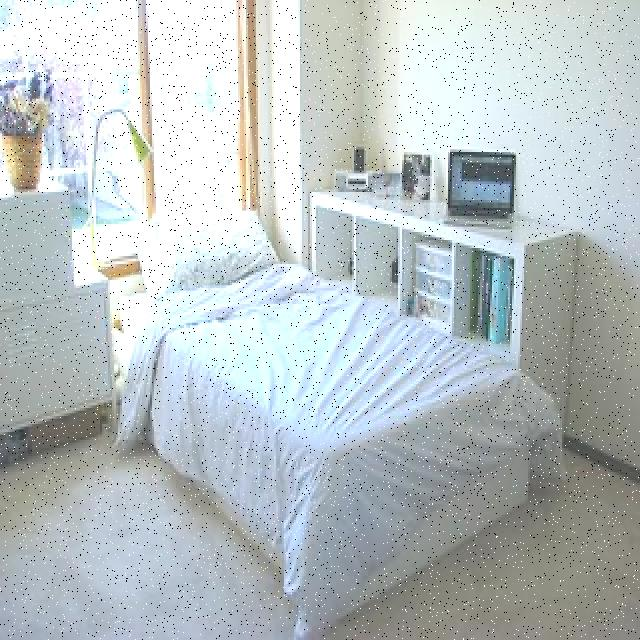bed: (108, 221, 551, 586)
